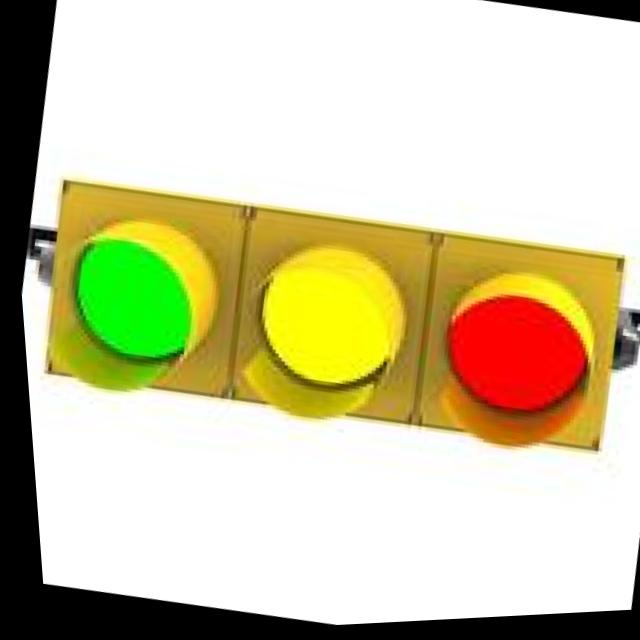green_light: (11, 178, 253, 443)
red_light: (381, 237, 628, 499)
yellow_light: (208, 180, 458, 469)
